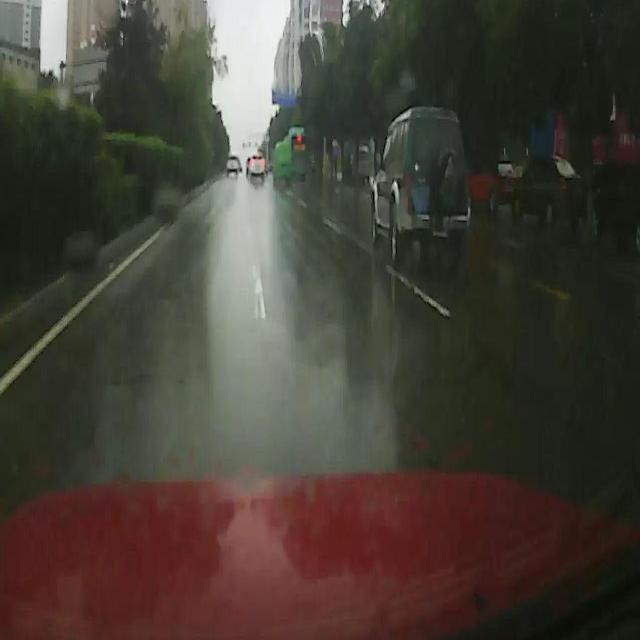car: (369, 108, 472, 250), (248, 149, 264, 177), (224, 153, 240, 174)
